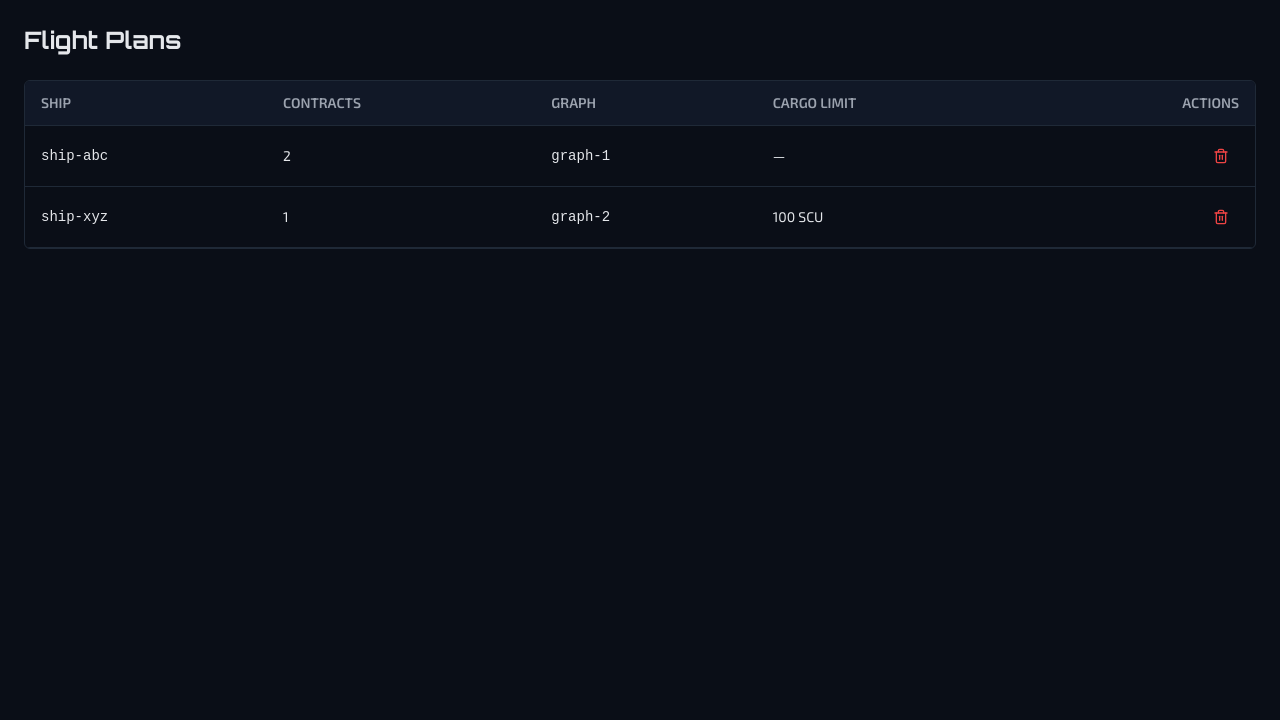
FlightPlanListPage › delete button calls deleteFlightPlan and removes item from list
Expected: the heading "Flight Plans" is shown, [24,24,181,56]
Click the button named "Delete flight plan fp-1": click(1221, 156) [1203,138,1239,174]
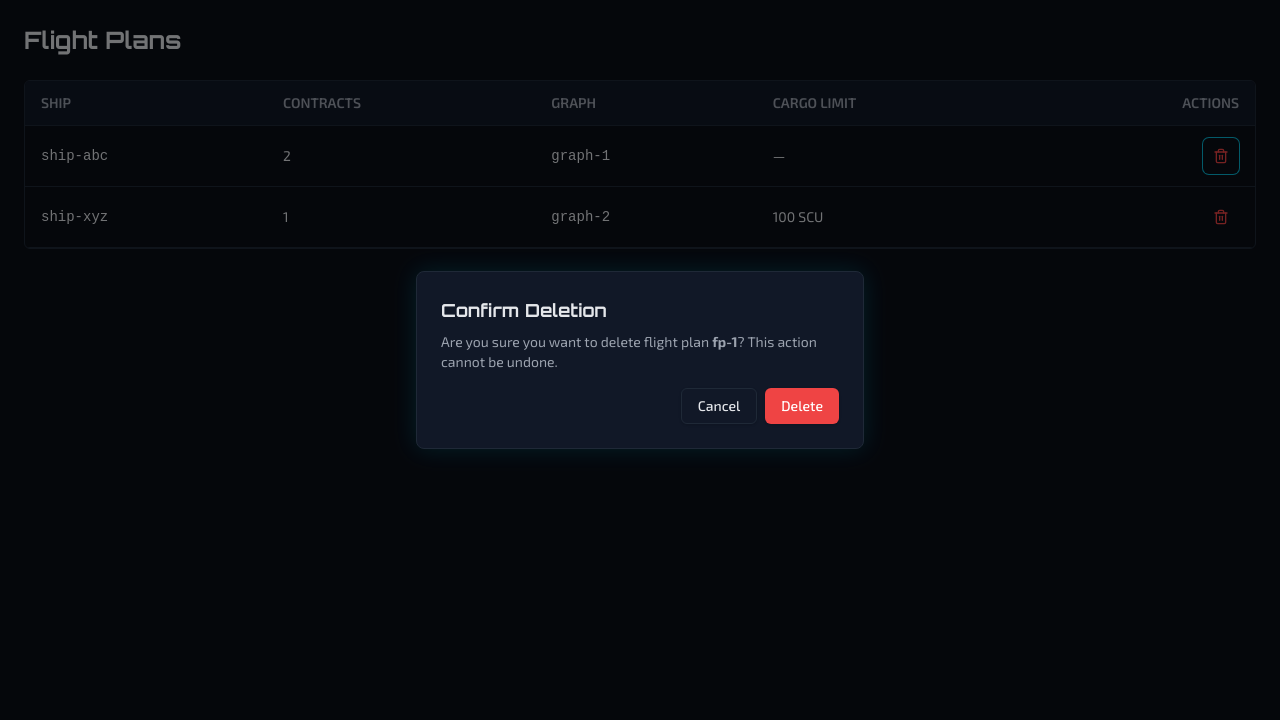
Click the button "Delete": click(802, 406) [765,388,839,424]
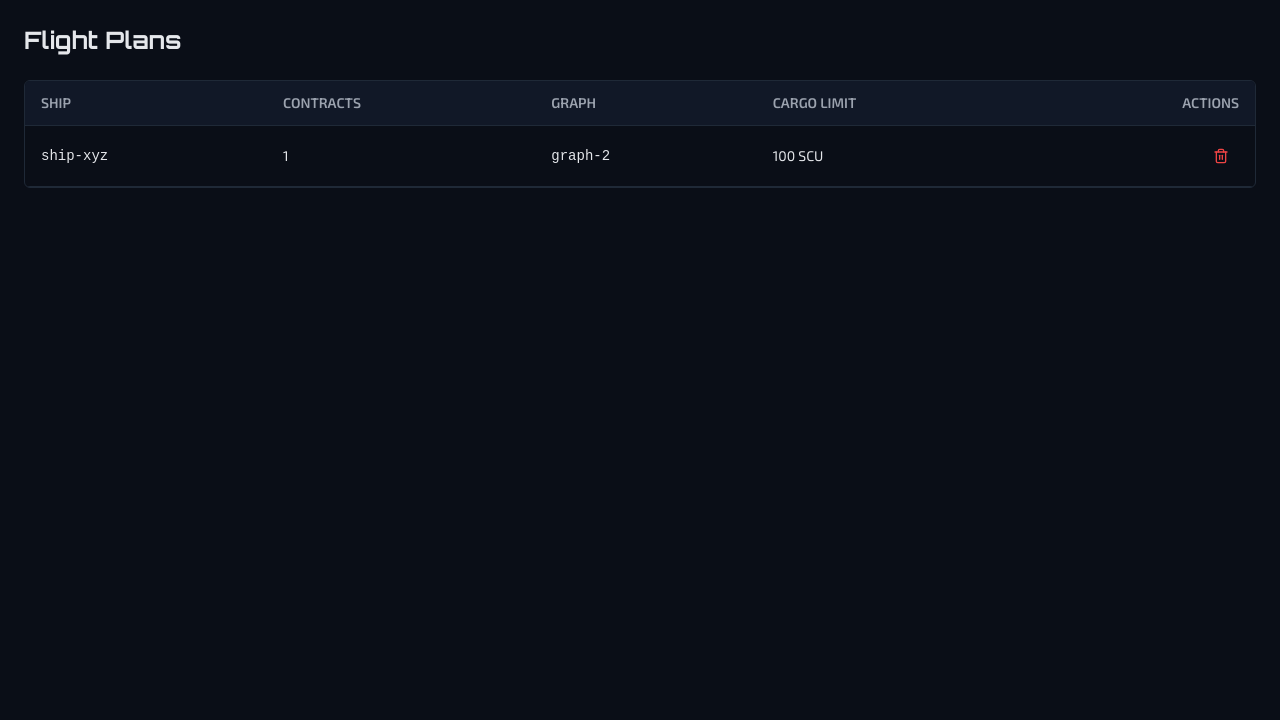
Expected: the text "ship-xyz" is shown, [25,126,267,186]
Now the text "ship-abc" is gone
